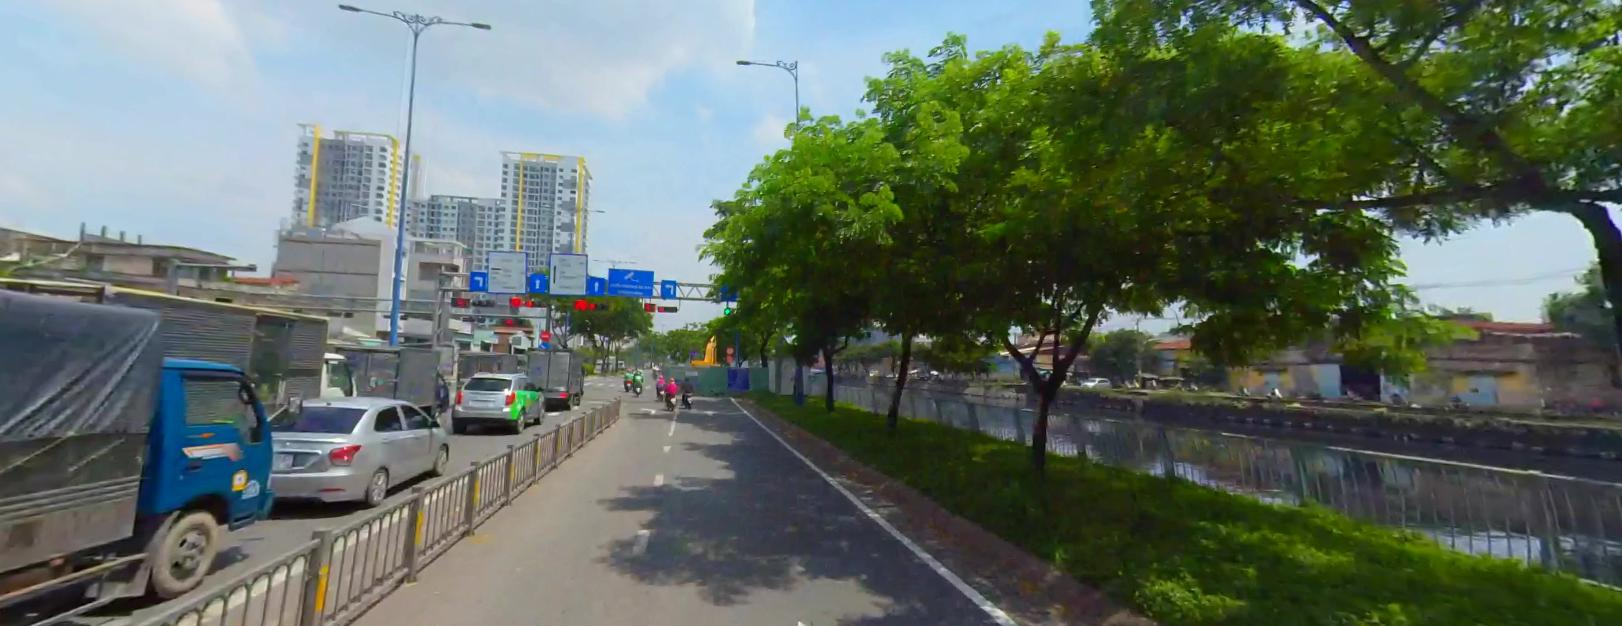Cam con lai: (726, 345, 734, 353)
Cam nguoc chieu: (540, 329, 550, 338)
Hieu lenh: (539, 339, 549, 348)
